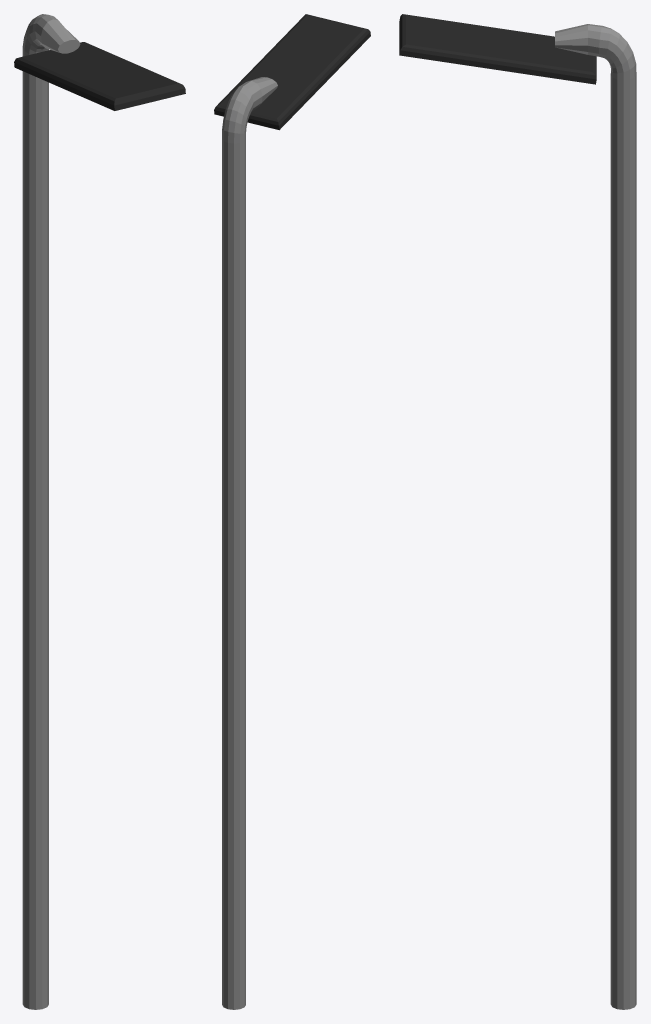
File: Lamp_2.fbx
3 renders of one model, left to right at view 1: azimuth 30°, elevation 25°; view 2: azimuth 150°, elevation 25°; view 3: azimuth 270°, elevation 25°, orthographic. The views are drawn at different scales.
Visible parts, largest first — view 1: Plane; view 2: Plane; view 3: Plane.
Part boxes in pixels (bbox=[...]): Plane: bbox=[14, 14, 185, 1009]; Plane: bbox=[214, 14, 370, 1009]; Plane: bbox=[399, 14, 636, 1009].
Size of the model in its own units: 0.9416 by 12.63 by 2.77.
